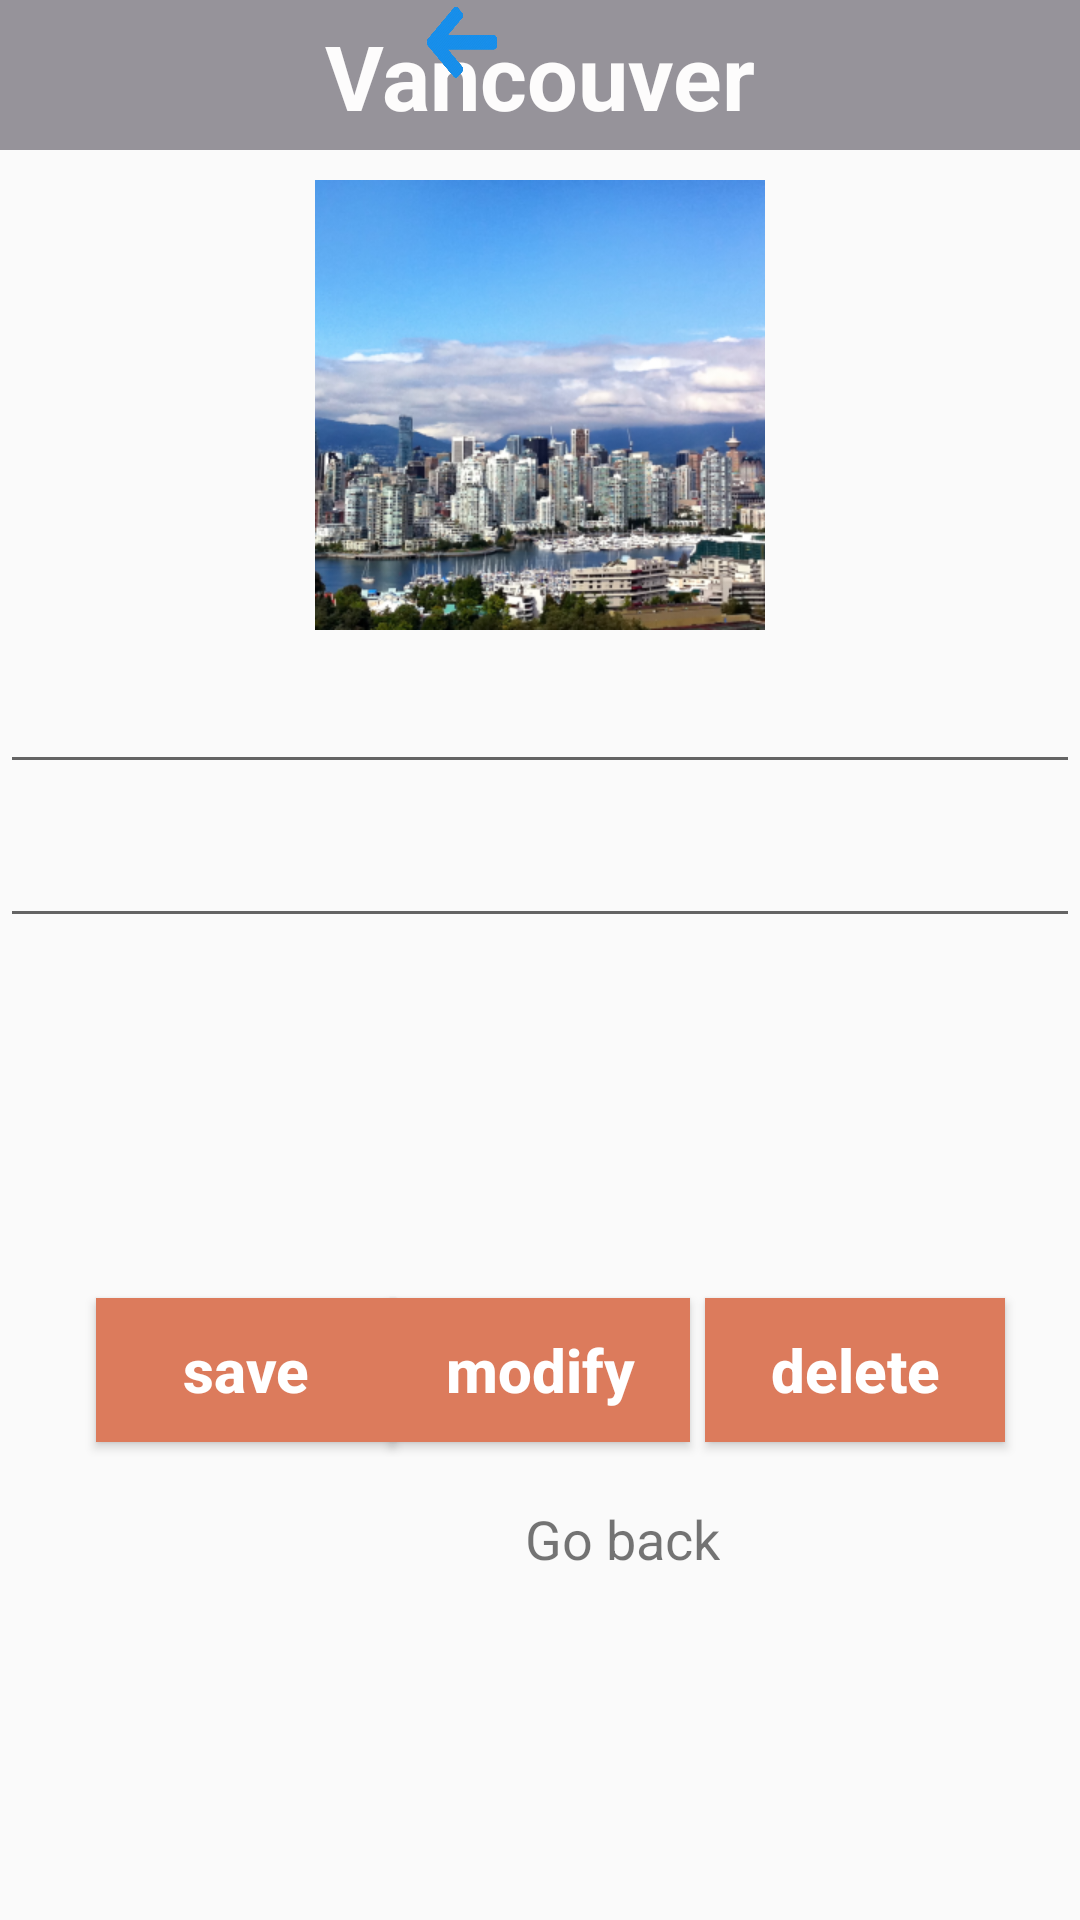

Named icons in this screenshot (1080w x 1920h) and their bounding boxes, (x1, y1, x2, y2):
back: (420, 7, 501, 81)
